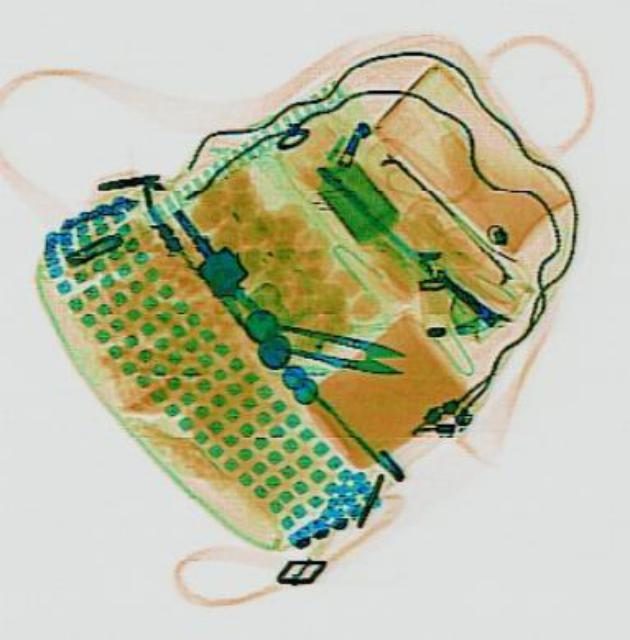Scissors: (263, 319, 407, 376)
